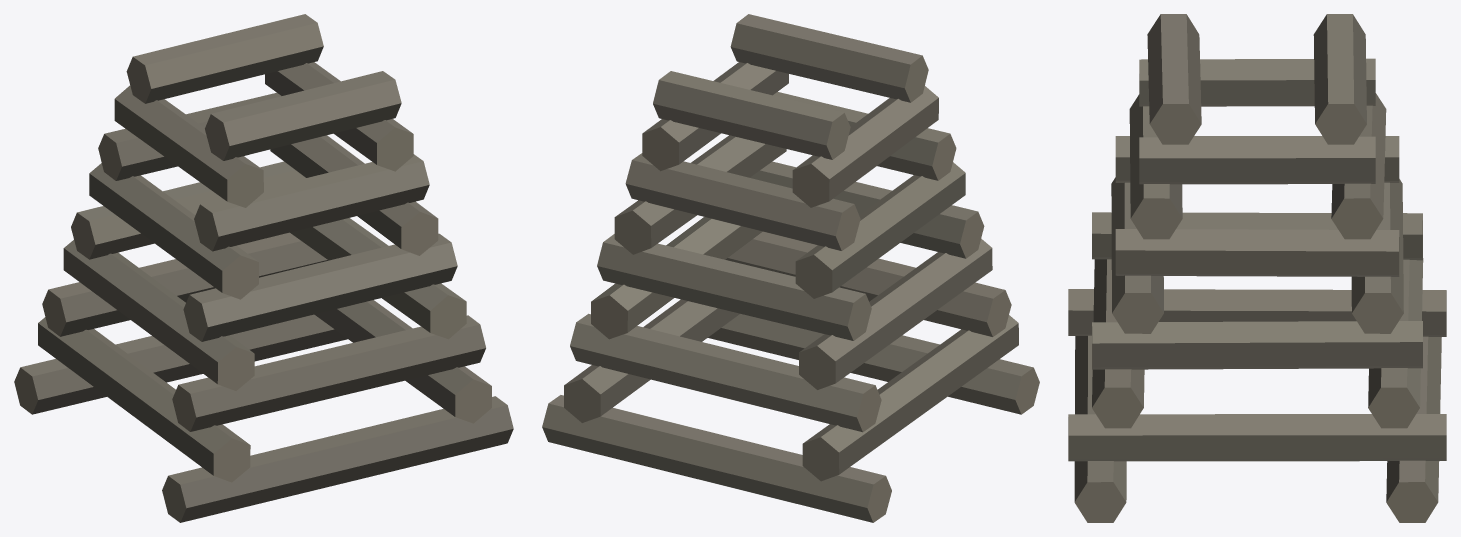
File: sankthans_pyre.glb
3 views of the same model, side by side, from view 1: azimuth 30°, elevation 25°; view 2: azimuth 150°, elevation 25°; view 3: azimuth 270°, elevation 25° (orthographic). The views are drawn at different scales.
Visible parts, largest first — view 1: sankthans_pyre; view 2: sankthans_pyre; view 3: sankthans_pyre.
Boxes of the visible parts, box(x1,y1,x2,y2) form: sankthans_pyre: box(14, 14, 513, 522); sankthans_pyre: box(542, 14, 1039, 522); sankthans_pyre: box(1068, 14, 1446, 522).
Size of the model in its own units: 3.4 by 3.54 by 3.2.
